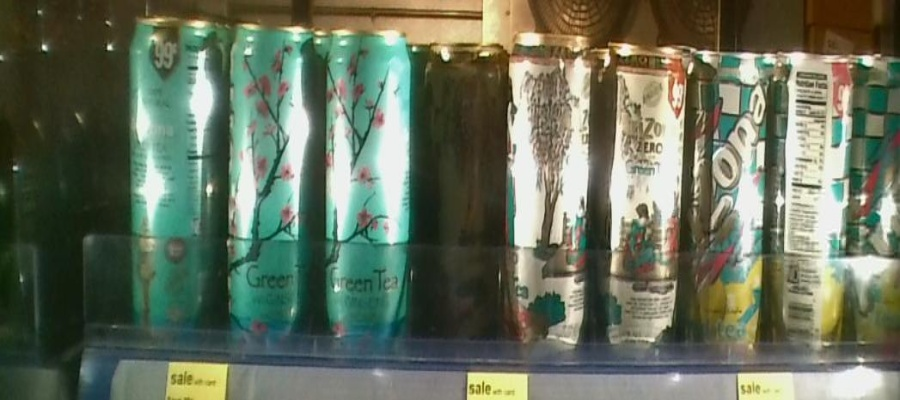bottle: (224, 12, 320, 357), (120, 9, 219, 341), (324, 14, 413, 376), (507, 22, 597, 359), (599, 21, 687, 362), (417, 22, 505, 362), (771, 31, 853, 366), (688, 17, 764, 363), (855, 28, 895, 365)
